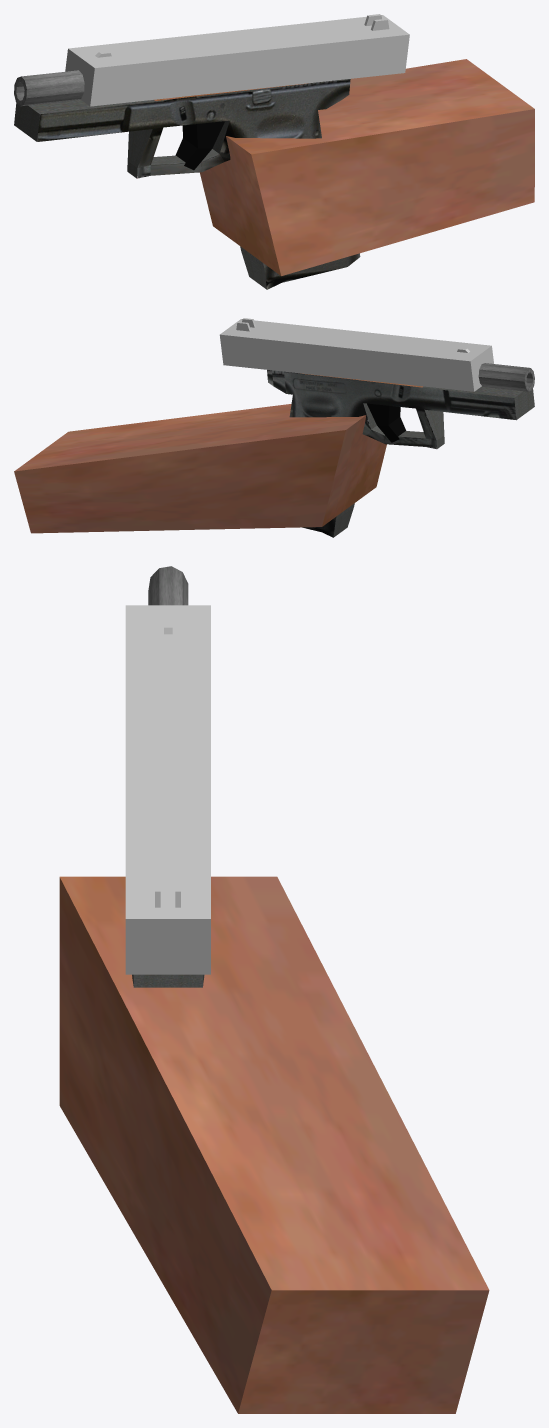
The model's file is pistol_000009.obj.
The picture shows the model from 3 angles, top to bottom: view 1: azimuth 30°, elevation 25°; view 2: azimuth 150°, elevation 25°; view 3: azimuth 270°, elevation 25°; orthographic projection. The views are drawn at different scales.
Visible parts, largest first — view 1: Cube, Cube.001, Cube.003; view 2: Cube, Cube.001, Cube.003; view 3: Cube, Cube.001.
Boxes of the visible parts, x1,y1,x2,y2 form: Cube: (14, 59, 534, 289); Cube.001: (65, 14, 409, 106); Cube.003: (175, 121, 224, 170); Cube: (14, 363, 534, 537); Cube.001: (219, 318, 493, 391); Cube.003: (367, 403, 406, 442); Cube: (59, 566, 489, 1413); Cube.001: (125, 605, 210, 974).
Bounding box in the file's own units: 1.69 × 0.8153 × 0.7214.
